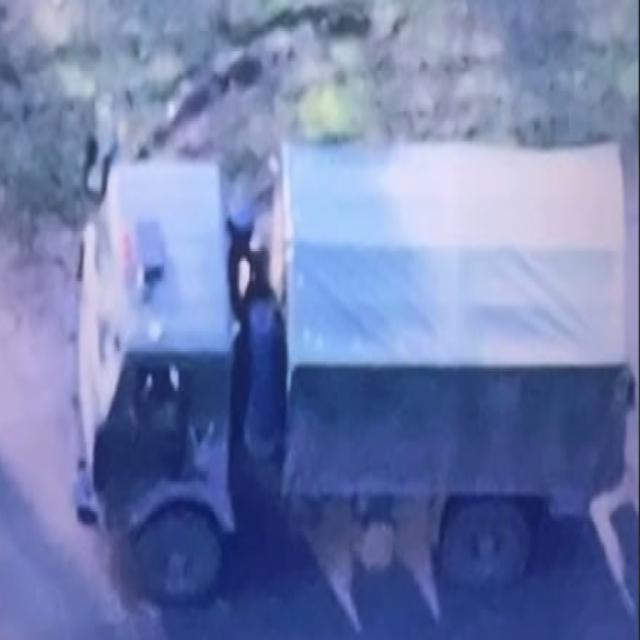TRUCK: (62, 129, 634, 612)
